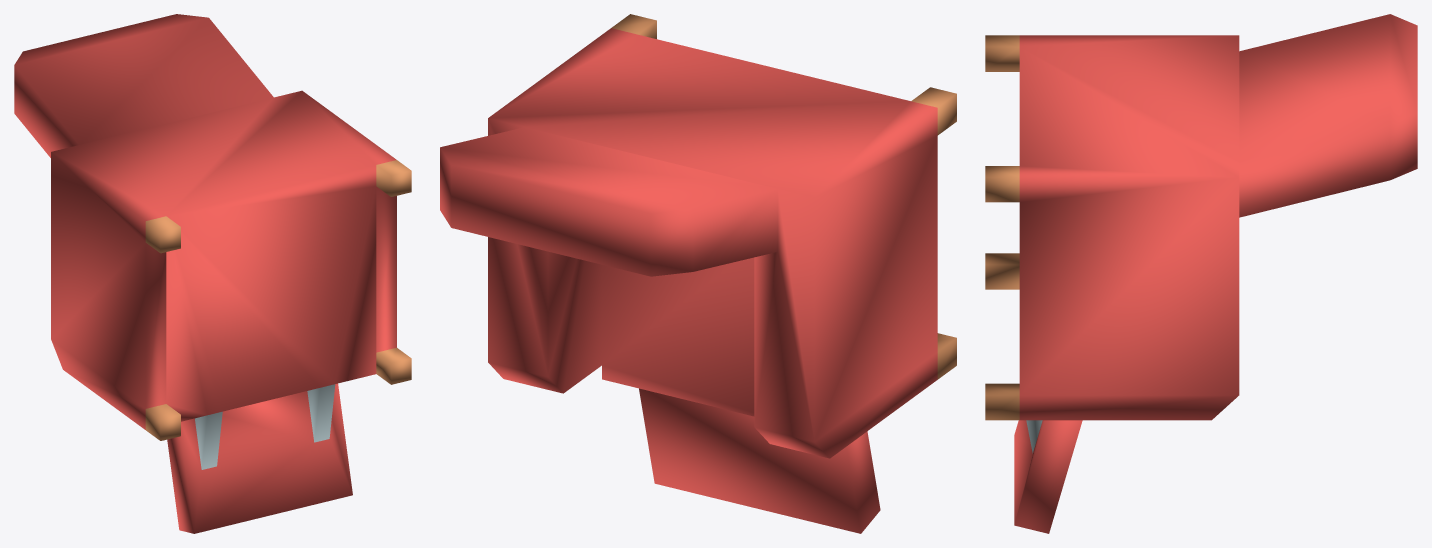
File: loungeChairRelax.obj
The picture shows the model from 3 angles, left to right: view 1: azimuth 30°, elevation 25°; view 2: azimuth 150°, elevation 25°; view 3: azimuth 270°, elevation 25°; orthographic projection. The views are drawn at different scales.
Visible parts, largest first — view 1: loungeChairRelax; view 2: loungeChairRelax; view 3: loungeChairRelax.
Boxes of the visible parts, box(x1,y1,x2,y2) form: loungeChairRelax: box(14, 14, 411, 533); loungeChairRelax: box(440, 14, 956, 533); loungeChairRelax: box(985, 14, 1417, 533).
Bounding box in the file's own units: 0.49 × 0.6747 × 0.63.
